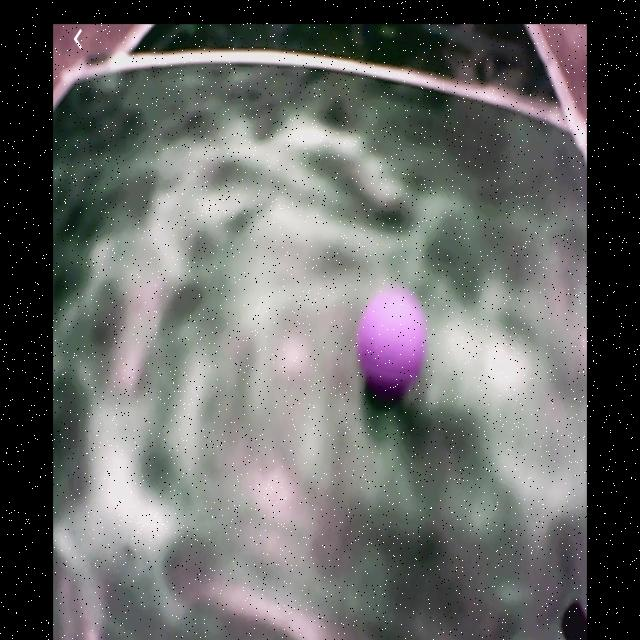ball: (359, 287, 428, 395)
